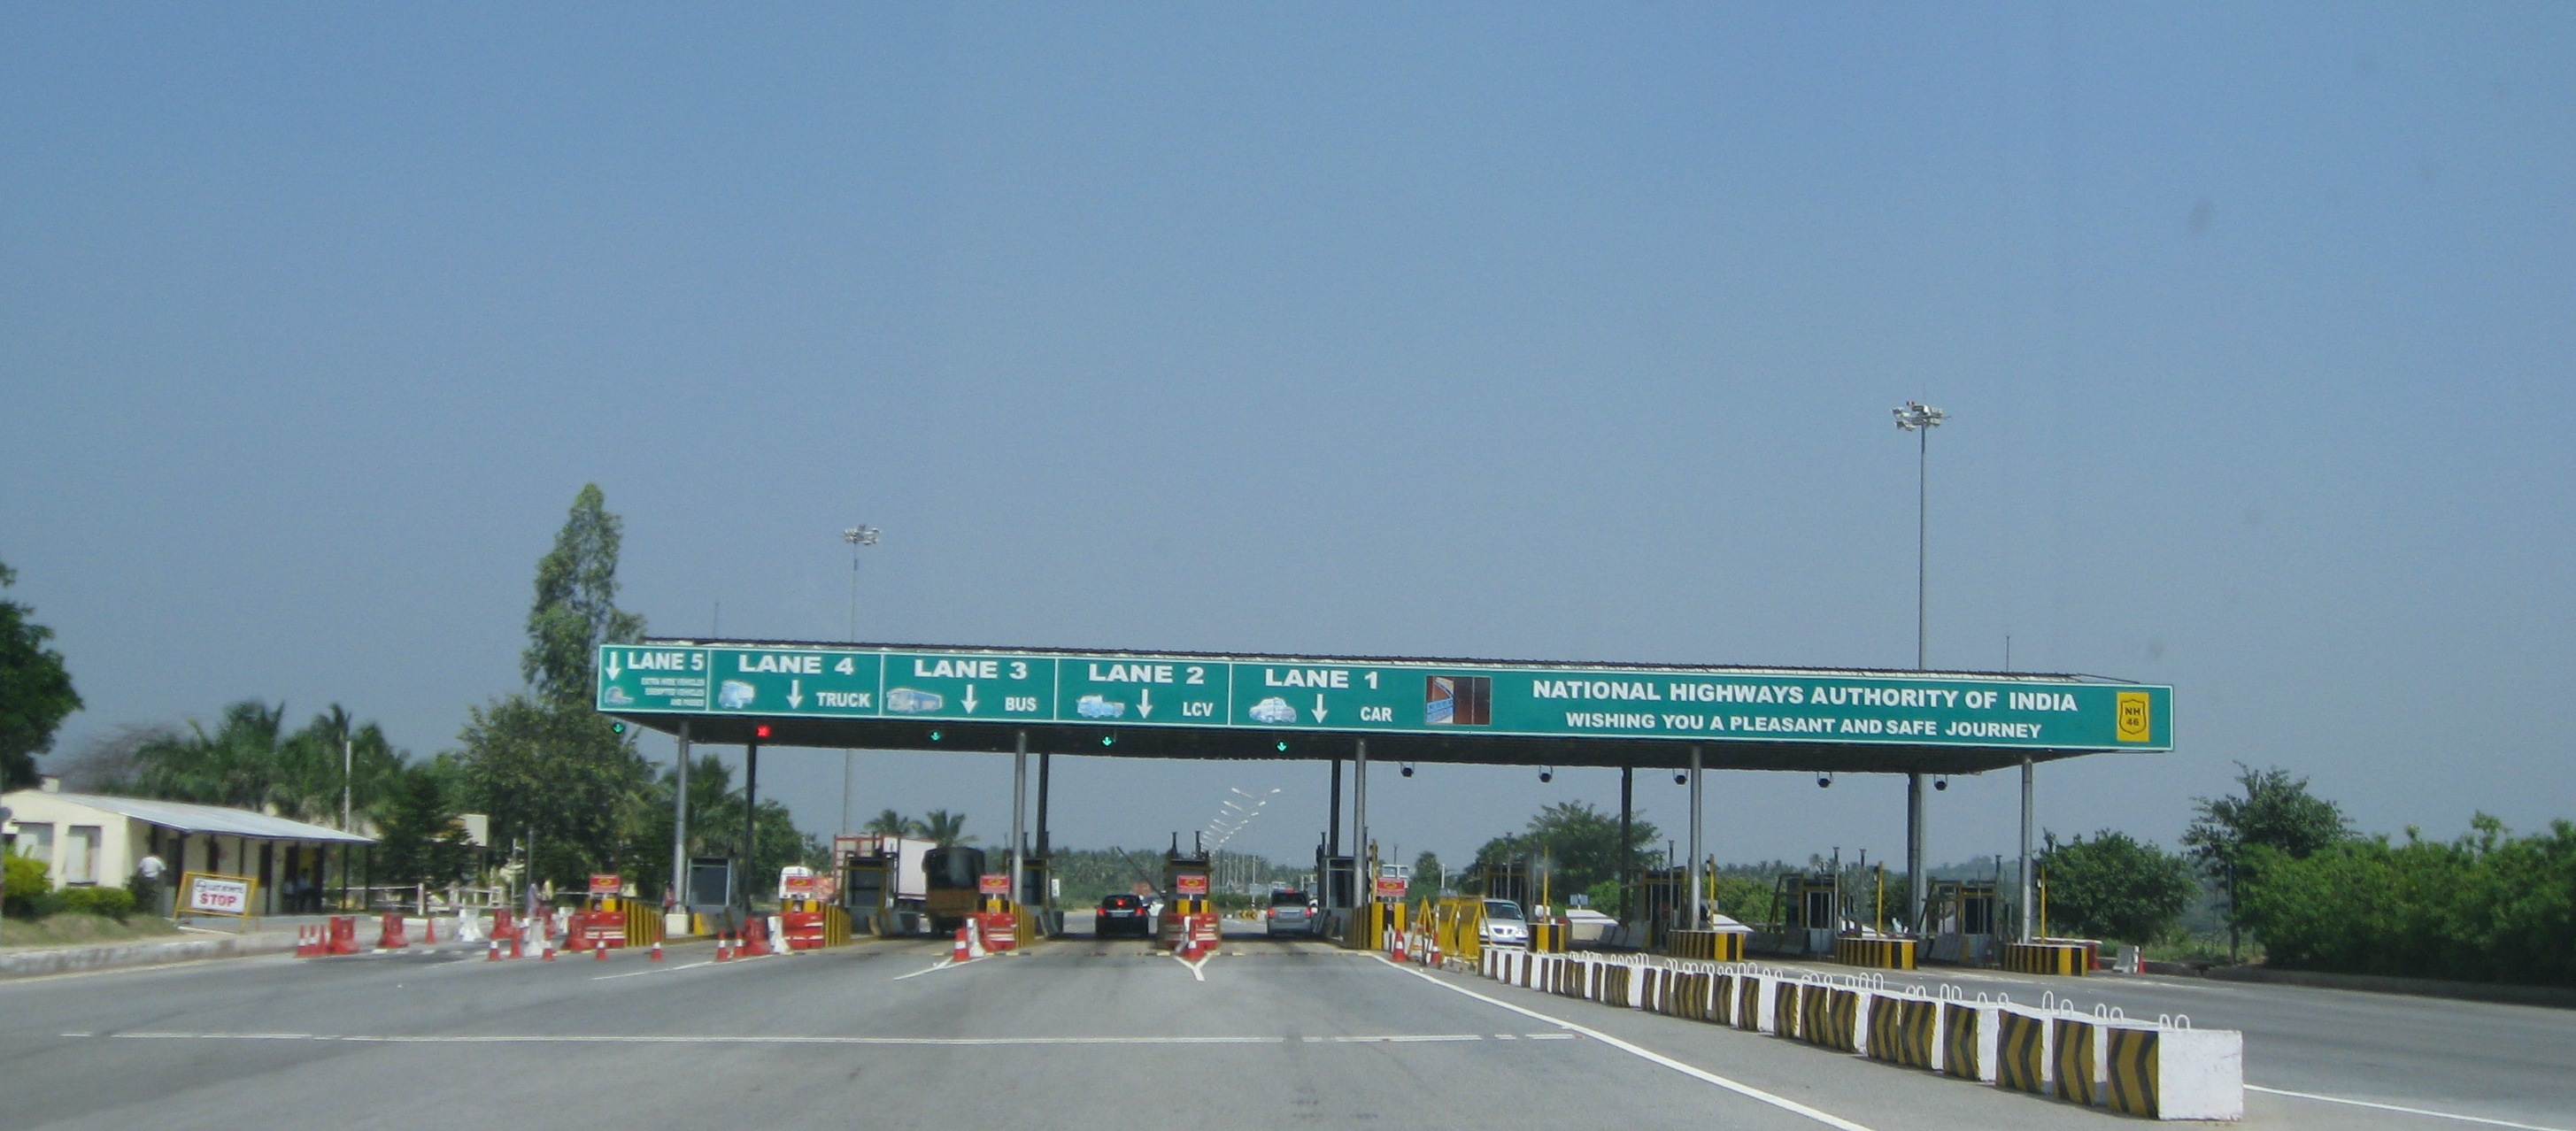toll plaza: (585, 625, 2175, 962)
